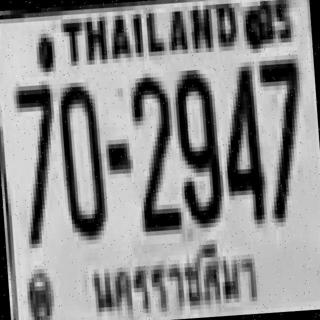N00: (55, 77, 105, 237)
N02: (129, 72, 179, 232), (128, 72, 177, 219)
N04: (217, 62, 265, 222)
N07: (256, 54, 306, 219), (12, 80, 60, 245)
N09: (170, 64, 223, 225)
P30: (85, 236, 266, 320)
